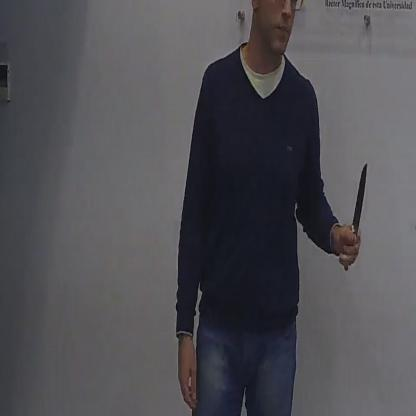knife: (338, 152, 371, 274)
